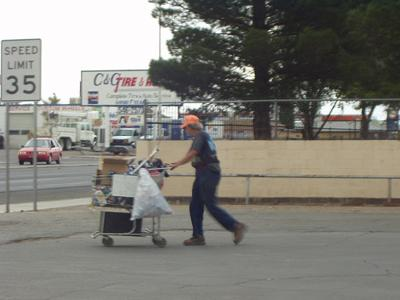person: (163, 114, 249, 248)
